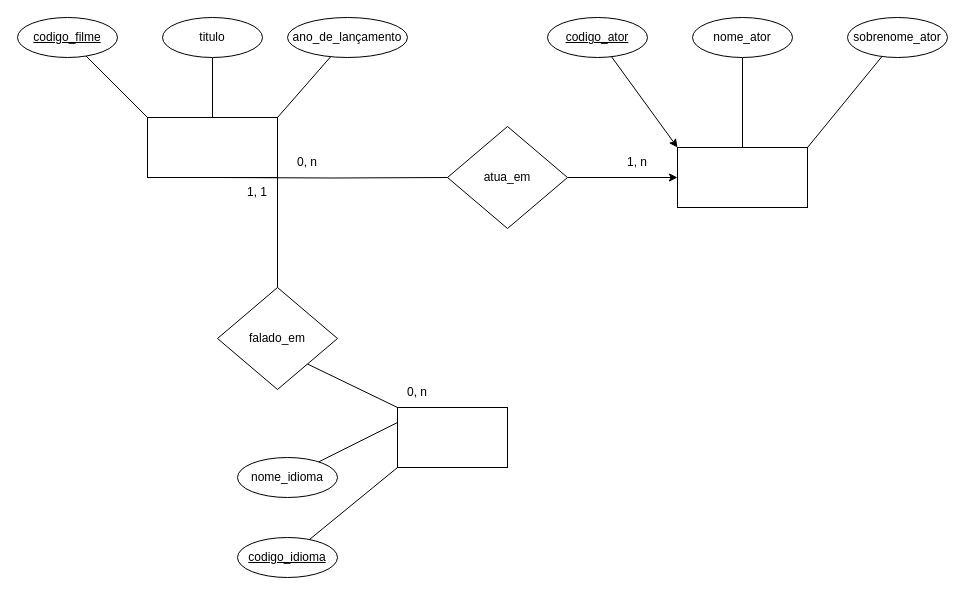
The diagram is 965 pixels wide and 595 high, and some of its shapes have lost their labels. Each missing label, with the centre of its shape:
"ator" goes at [742,177].
"filme" goes at [212,147].
"idioma" goes at [452,437].
